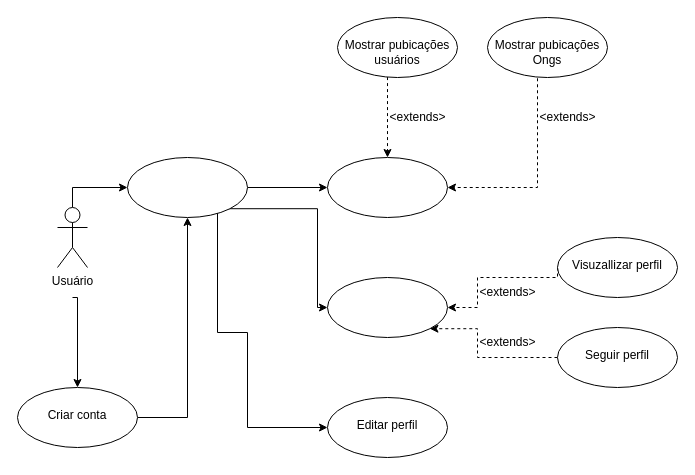
Some shapes in this 695 by 475 pixel diagram are drawn without their labels. Here are the shapes that lost their labels. From the top down, the box of each, then its label:
(126, 156, 248, 218): Autenticar
(326, 156, 448, 218): Mostrar pubicações
(326, 276, 448, 338): Buscar por Ongs/Usuários
